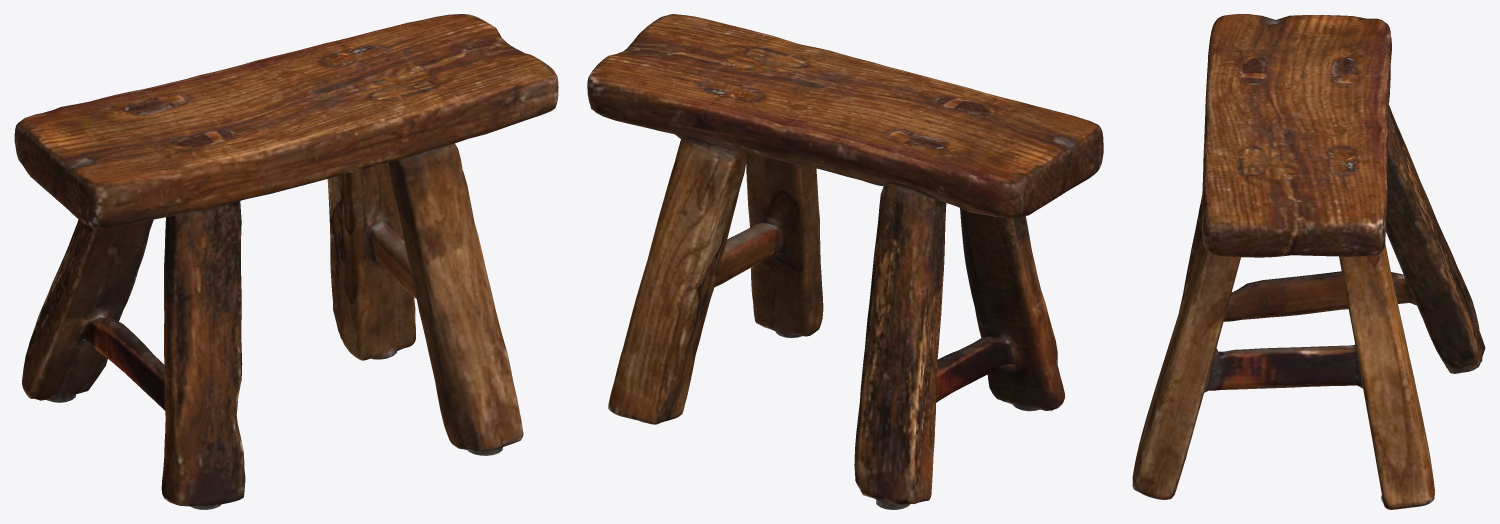
The model's file is wooden_stool_02.glb.
The picture shows the model from 3 angles, left to right: view 1: azimuth 30°, elevation 25°; view 2: azimuth 150°, elevation 25°; view 3: azimuth 270°, elevation 25°; orthographic projection. The views are drawn at different scales.
Parts seen in each view (by area): view 1: wooden_stool_02; view 2: wooden_stool_02; view 3: wooden_stool_02.
Part boxes in pixels (left/top/right/bottom): wooden_stool_02: left=14, top=14, right=558, bottom=509; wooden_stool_02: left=587, top=14, right=1103, bottom=509; wooden_stool_02: left=1132, top=14, right=1485, bottom=509.
Size of the model in its own units: 0.2652 by 0.1819 by 0.1831.
Materials: 1 (1 with a texture image).
